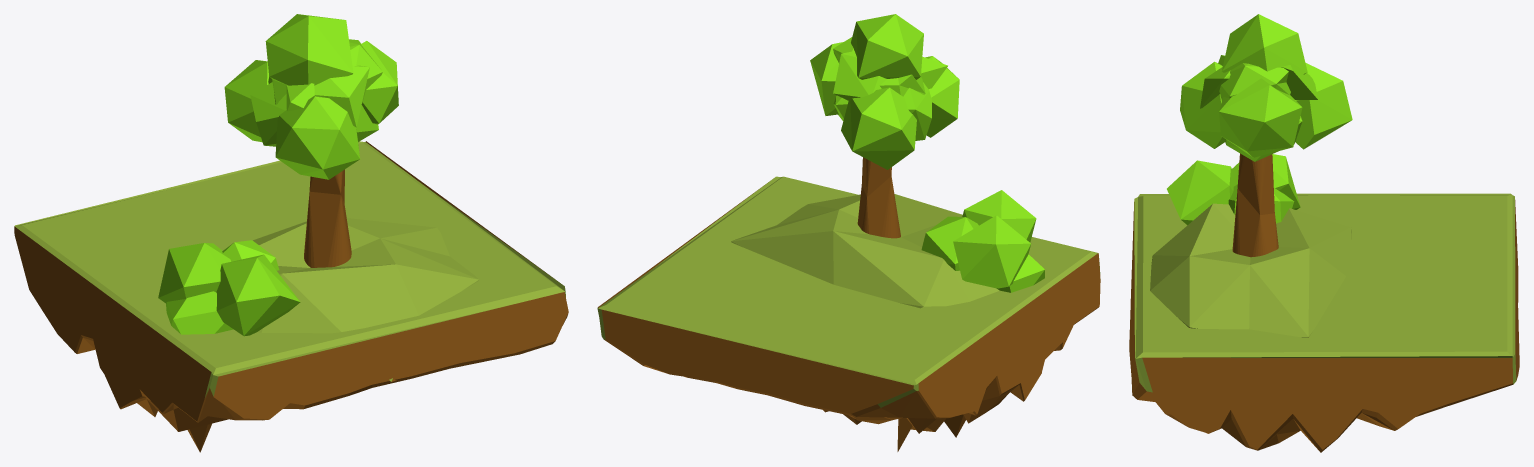
File: tiny_island.fbx
3 renders of one model, left to right at view 1: azimuth 30°, elevation 25°; view 2: azimuth 150°, elevation 25°; view 3: azimuth 270°, elevation 25°, orthographic. The views are drawn at different scales.
Parts seen in each view (by area): view 1: Ground, Tree, Bush; view 2: Ground, Tree, Bush; view 3: Ground, Tree, Bush.
Boxes of the visible parts, <box> form: Ground: <box>14,141,568,452</box>; Tree: <box>224,14,398,267</box>; Bush: <box>158,240,300,336</box>; Ground: <box>597,176,1100,451</box>; Tree: <box>810,14,959,238</box>; Bush: <box>921,190,1044,292</box>; Ground: <box>1129,193,1519,452</box>; Tree: <box>1180,14,1352,257</box>; Bush: <box>1167,154,1300,225</box>.
Size of the model in its own units: 1762 by 1865 by 1635.
